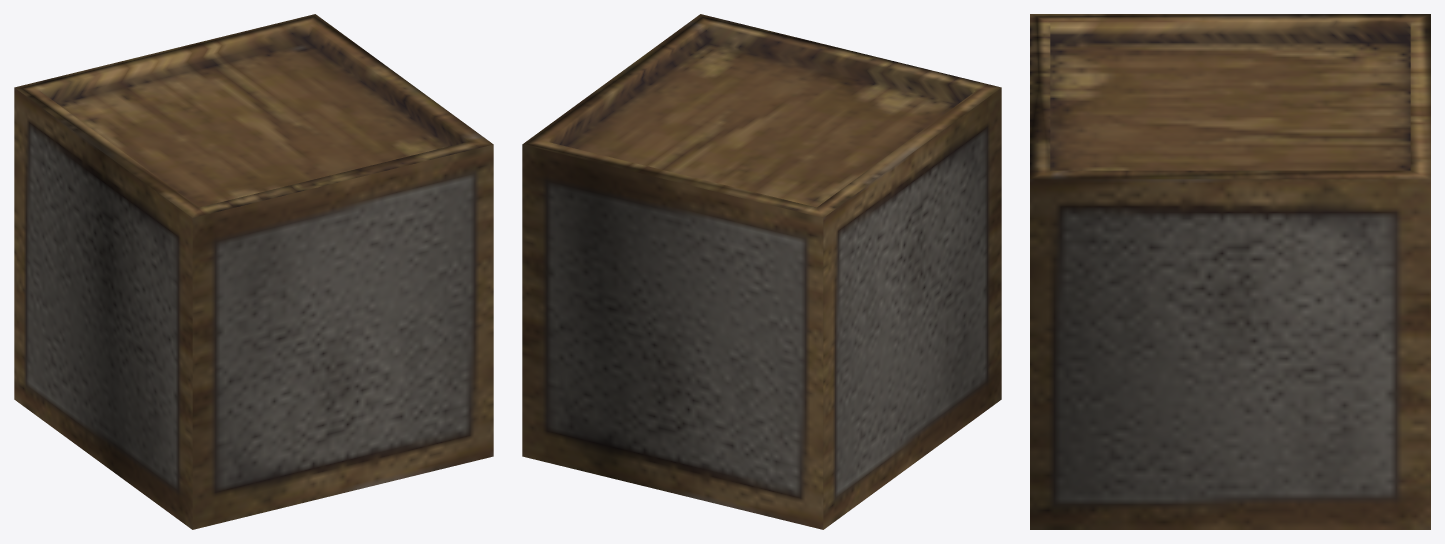
File: HouseCube.fbx
The picture shows the model from 3 angles, left to right: view 1: azimuth 30°, elevation 25°; view 2: azimuth 150°, elevation 25°; view 3: azimuth 270°, elevation 25°; orthographic projection. The views are drawn at different scales.
Visible parts, largest first — view 1: HouseCUbe; view 2: HouseCUbe; view 3: HouseCUbe.
Part boxes in pixels (x1,y1,x2,y2): HouseCUbe: (14, 14, 493, 529); HouseCUbe: (522, 14, 1001, 529); HouseCUbe: (1030, 14, 1430, 529).
Bounding box in the file's own units: 658 × 651 × 674.
